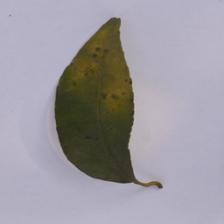greening: (43, 14, 171, 193)
